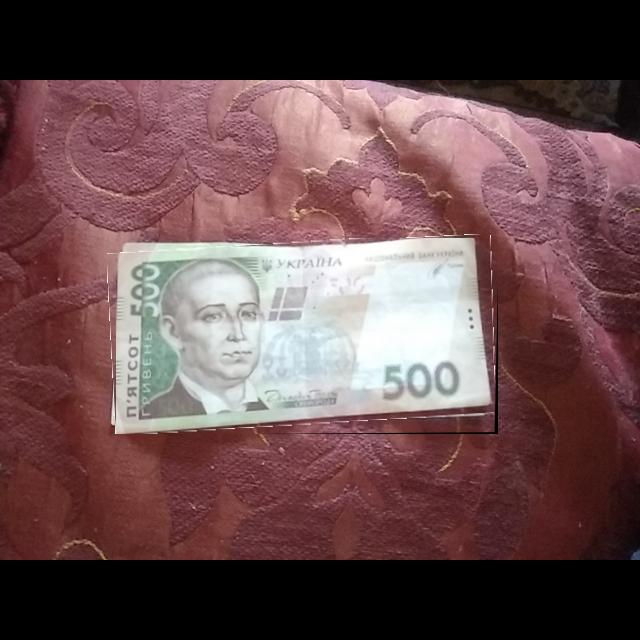500uah: (116, 238, 496, 435)
